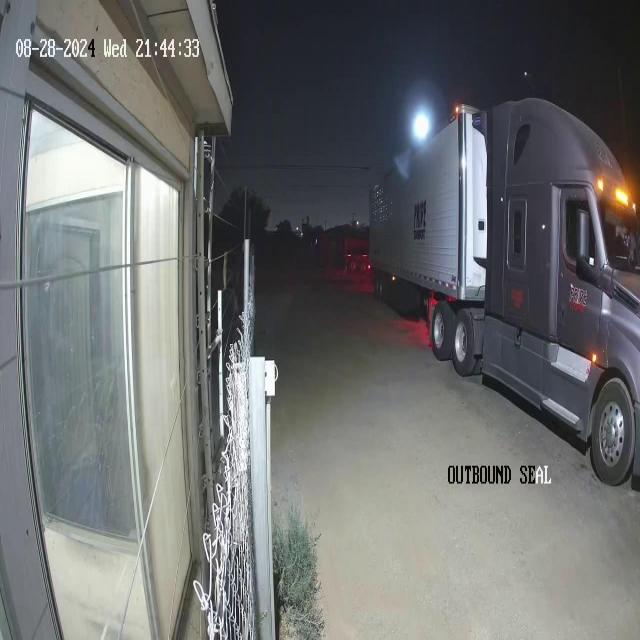TRUCK_IN: (367, 96, 639, 487)
